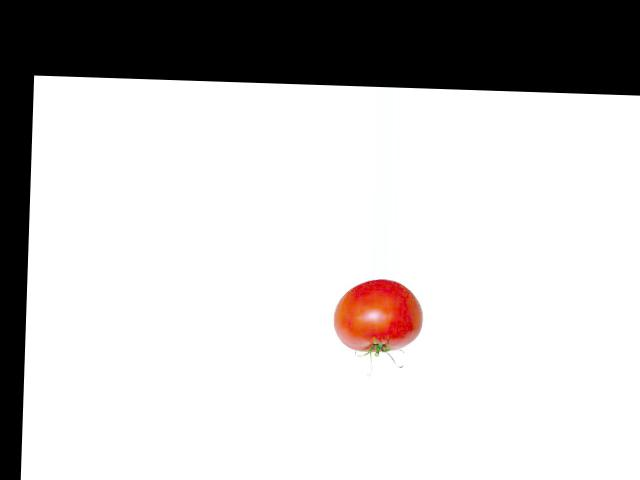tomato: (333, 278, 422, 353)
